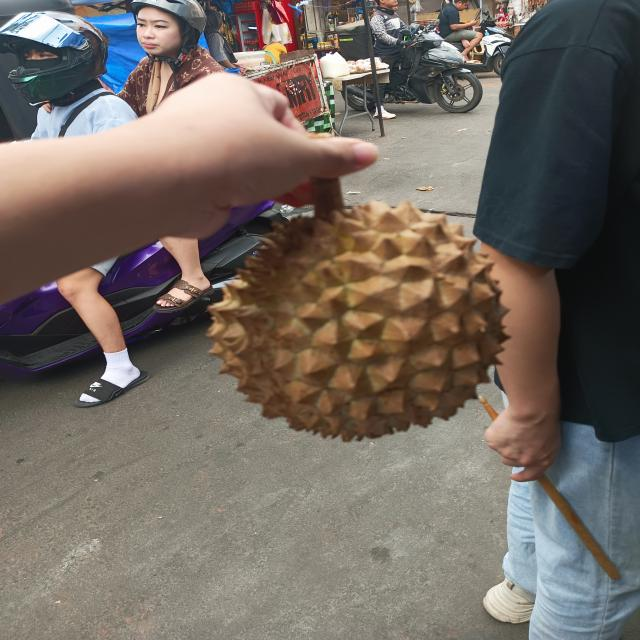mature: (202, 196, 507, 438)
